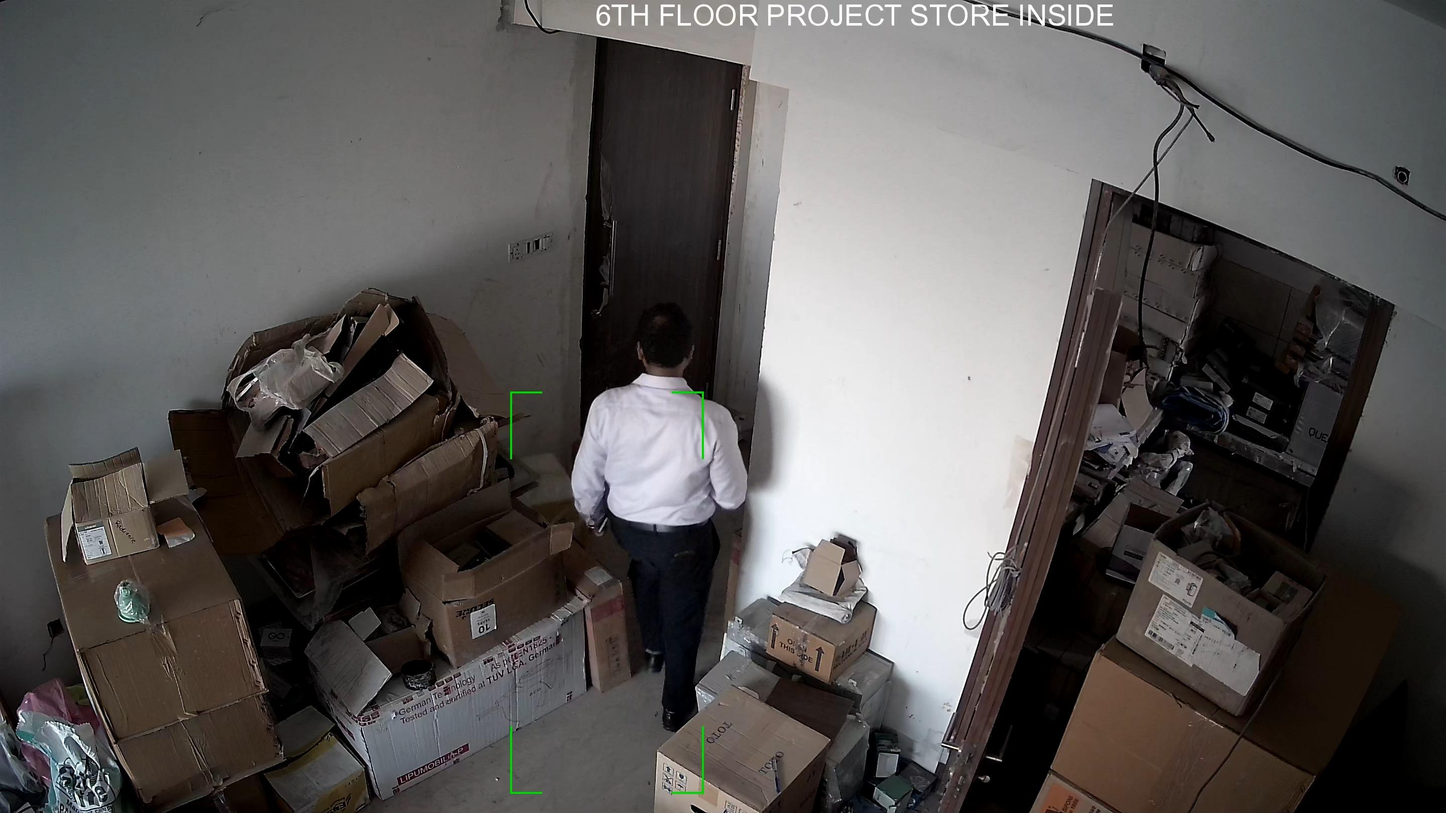Door-Close: (557, 36, 755, 482)
